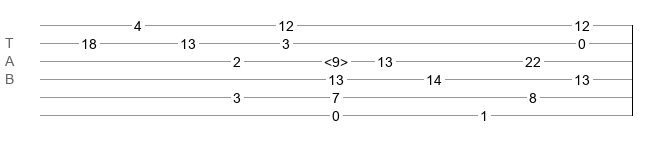0: (332, 108, 340, 118), (578, 36, 586, 46)
1: (480, 108, 488, 118)
12: (278, 18, 294, 28), (574, 18, 590, 28)
13: (180, 36, 196, 46), (328, 72, 344, 82), (377, 54, 393, 64), (574, 72, 590, 82)
14: (426, 72, 442, 82)
18: (81, 36, 97, 46)
2: (233, 54, 241, 64)
22: (525, 54, 541, 64)
3: (233, 90, 241, 100), (282, 36, 290, 46)
4: (134, 18, 142, 28)
7: (332, 90, 340, 100)
8: (529, 90, 537, 100)
harmonic: (324, 54, 348, 64)
